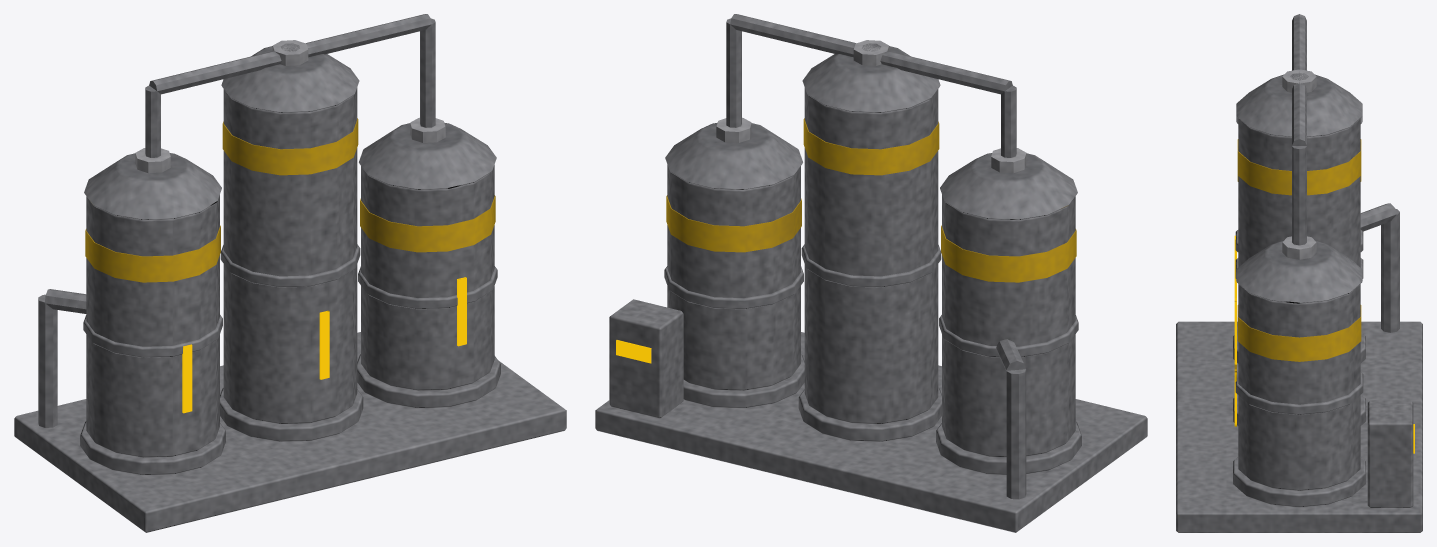
File: nodexeus-tanks.glb
3 renders of one model, left to right at view 1: azimuth 30°, elevation 25°; view 2: azimuth 150°, elevation 25°; view 3: azimuth 270°, elevation 25°, orthographic. The views are drawn at different scales.
Visible parts, largest first — view 1: tanks; view 2: tanks; view 3: tanks.
Part boxes in pixels (x1=…): tanks: x1=14, y1=14, x2=566, y2=532; tanks: x1=595, y1=14, x2=1147, y2=532; tanks: x1=1176, y1=14, x2=1422, y2=532.
Size of the model in its own units: 2.4 by 2.1 by 1.3.
1 material, 1 textured.
